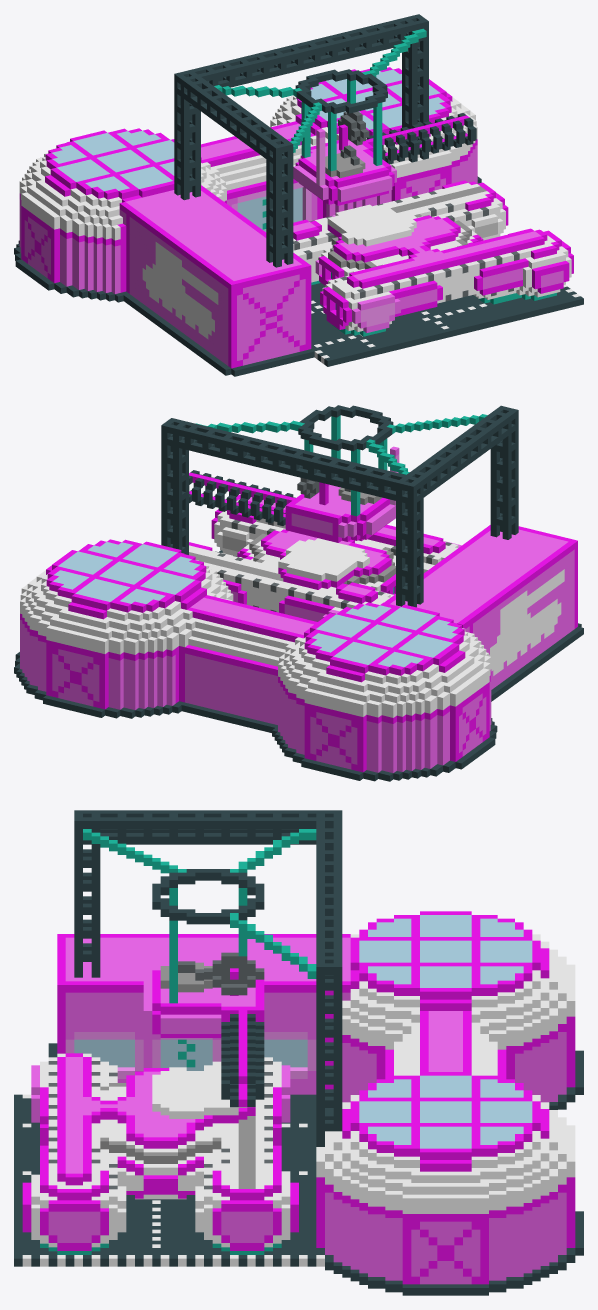
Rendered from factory.obj.
The picture shows the model from 3 angles, top to bottom: view 1: azimuth 30°, elevation 25°; view 2: azimuth 150°, elevation 25°; view 3: azimuth 270°, elevation 25°; orthographic projection. The views are drawn at different scales.
Size of the model in its own units: 7.6 by 3.5 by 6.6.
